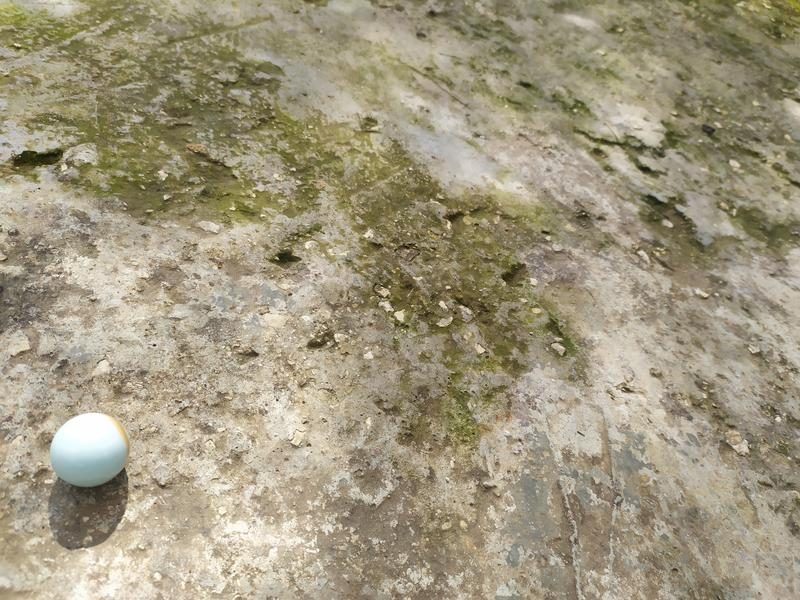Warning: (48, 409, 133, 490)
